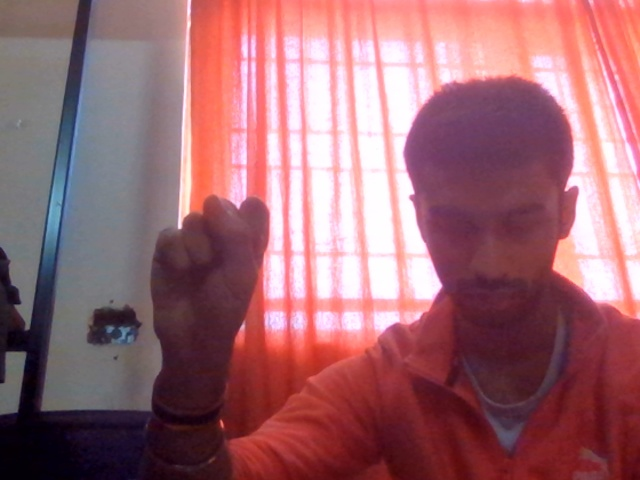S: (116, 164, 318, 406)
